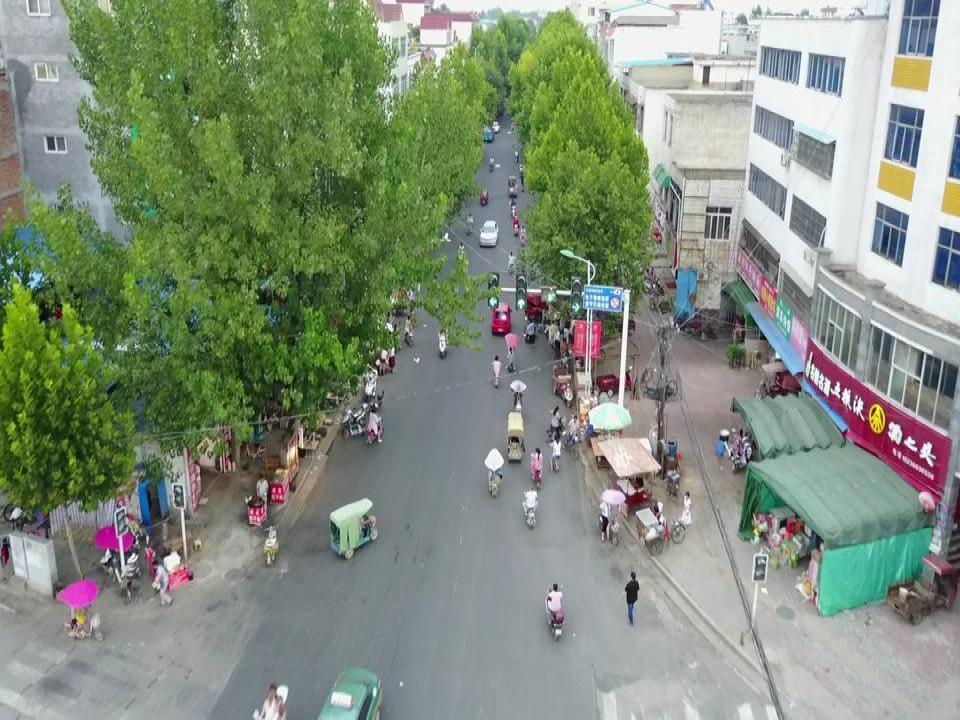car: (318, 665, 386, 720), (491, 303, 511, 336), (478, 220, 498, 248), (490, 121, 501, 132)
truck: (471, 123, 494, 141), (506, 176, 518, 196)
